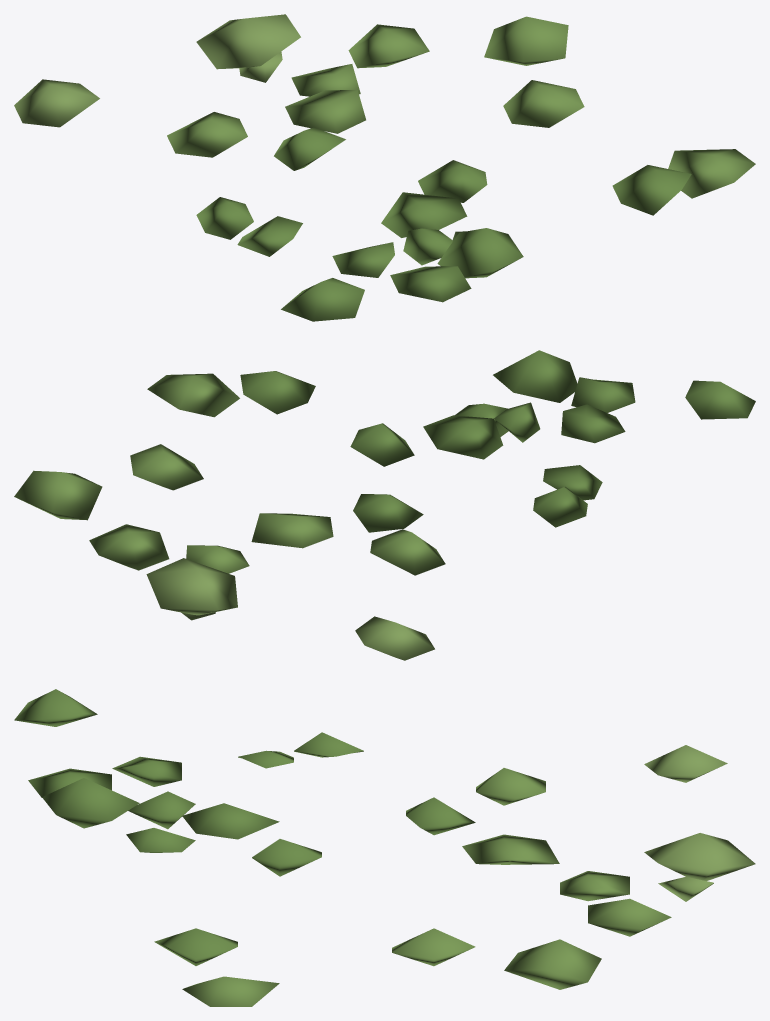
The model's file is canopy-2--1--16.glb.
3 renders of one model, top to bottom at view 1: azimuth 30°, elevation 25°; view 2: azimuth 150°, elevation 25°; view 3: azimuth 270°, elevation 25°, orthographic. The views are drawn at different scales.
Size of the model in its own units: 115 by 17.5 by 132.
Materials: 1 (1 with a texture image).
